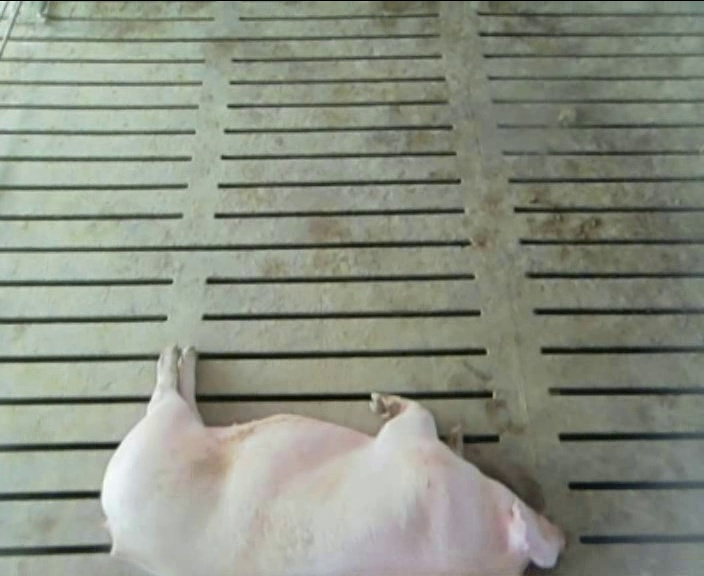pig: (103, 346, 564, 574)
